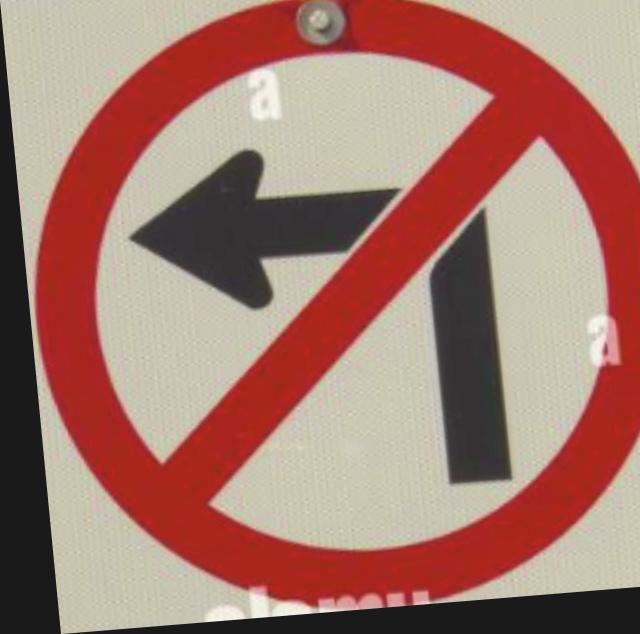not_turn_left: (31, 0, 640, 628)
